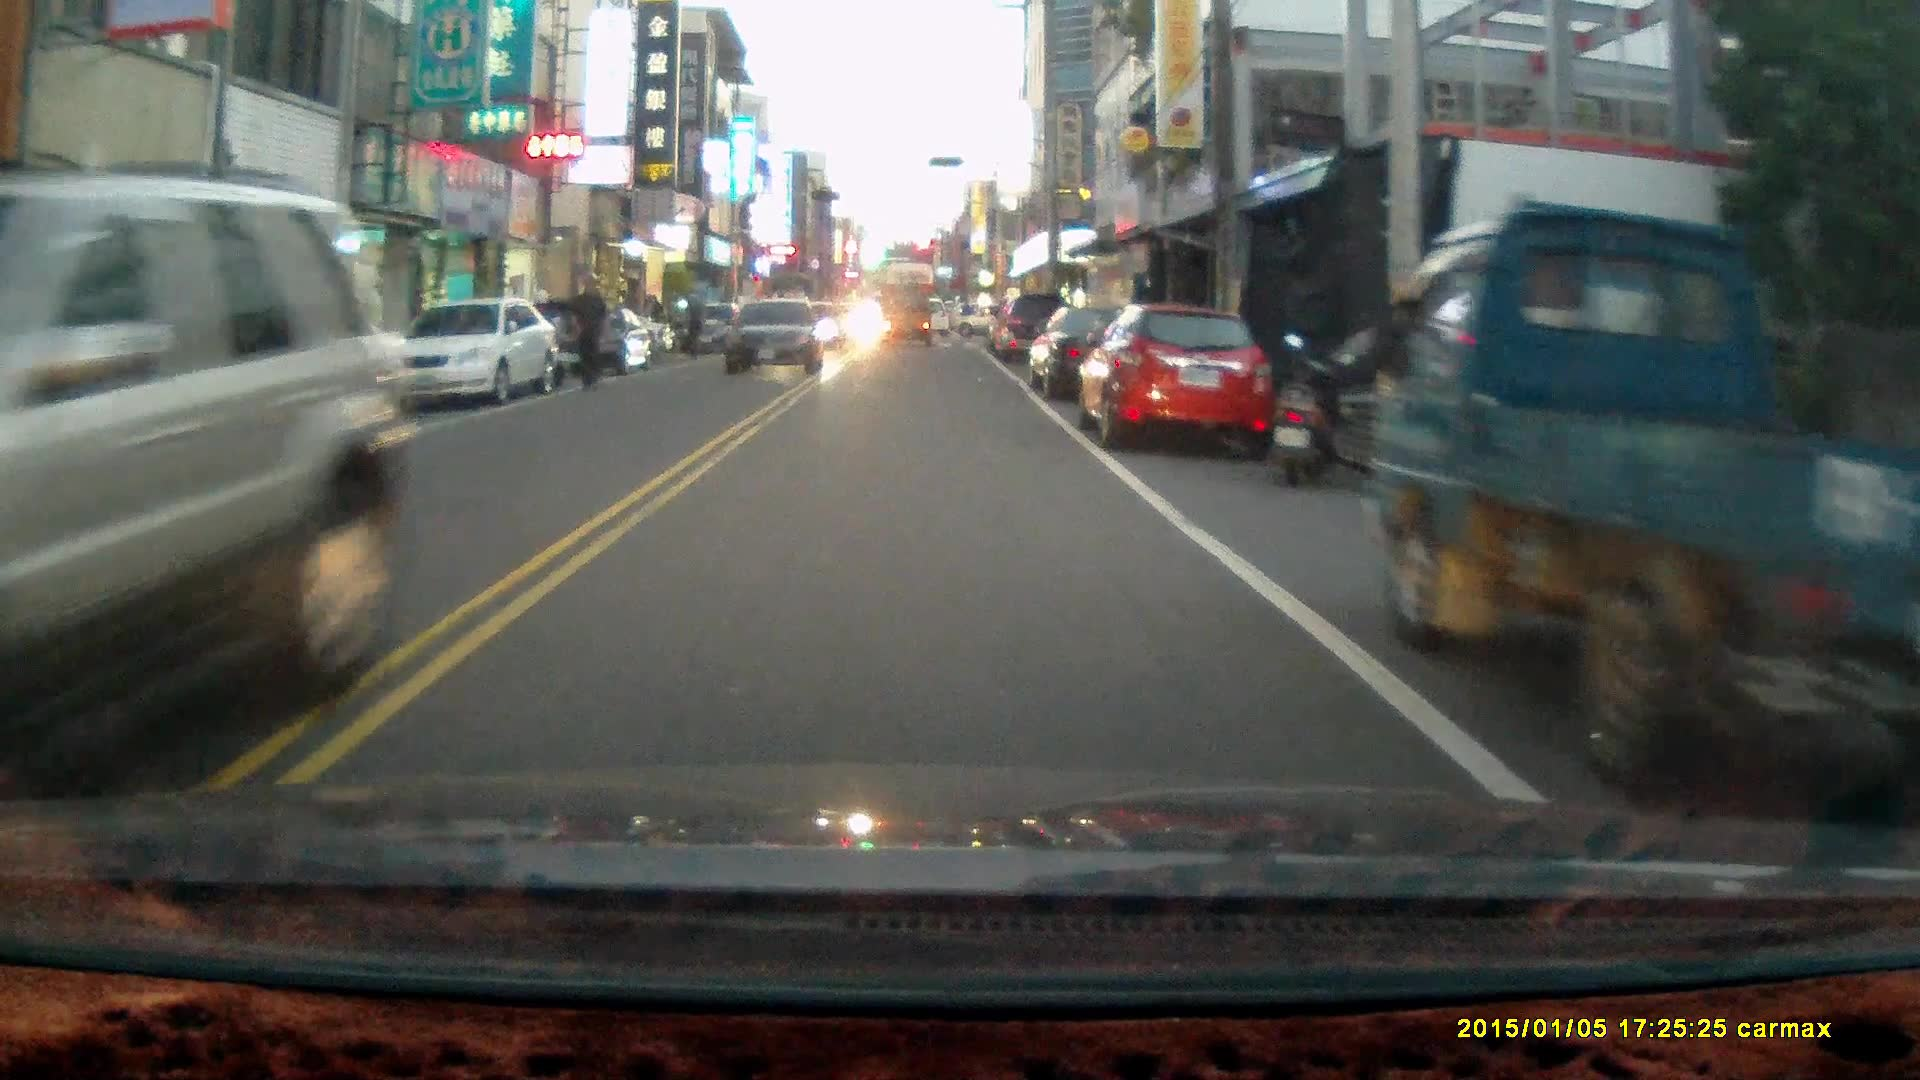pedestrian: (566, 270, 607, 396), (681, 290, 706, 356)
vehicle: (1366, 202, 1920, 783), (1, 175, 403, 804), (1079, 303, 1274, 456), (392, 294, 557, 406), (1028, 293, 1186, 404), (727, 296, 826, 378), (876, 284, 936, 350)
